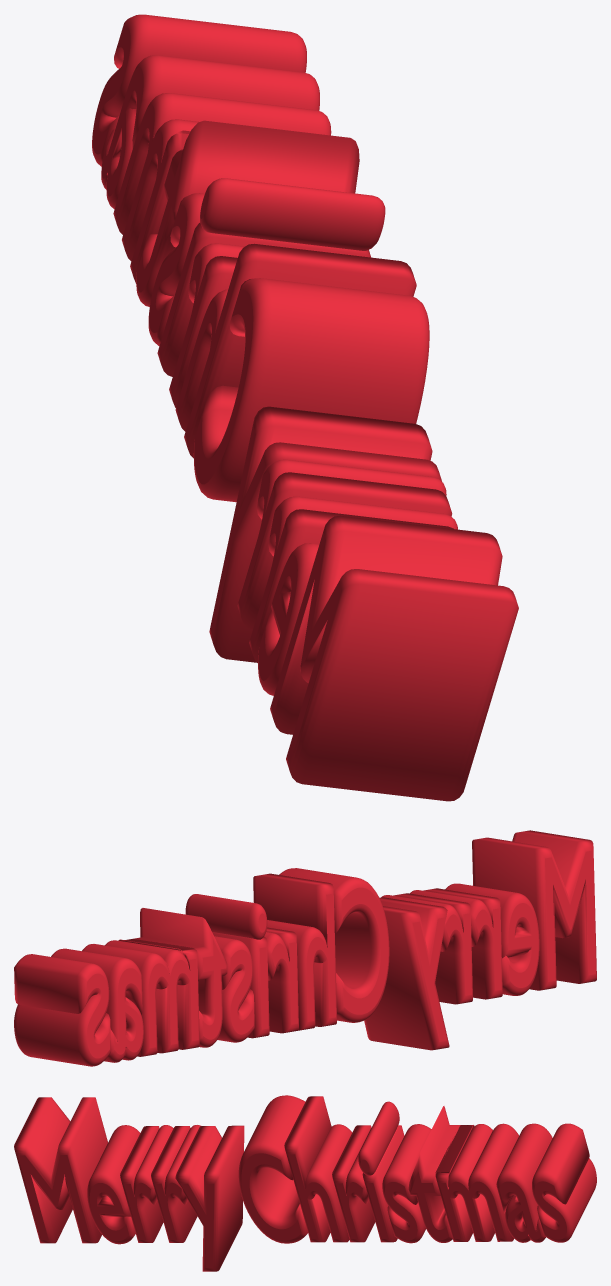
Rendered from xmas.glb.
3 views of the same model, one above another, from view 1: azimuth 30°, elevation 25°; view 2: azimuth 150°, elevation 25°; view 3: azimuth 270°, elevation 25° (orthographic). The views are drawn at different scales.
Visible parts, largest first — view 1: Text; view 2: Text; view 3: Text.
Part boxes in pixels (x1,y1,x2,y2): Text: (92, 14, 518, 801); Text: (14, 830, 596, 1066); Text: (14, 1095, 596, 1271).
Size of the model in its own units: 4.92 by 3.44 by 10.02.
